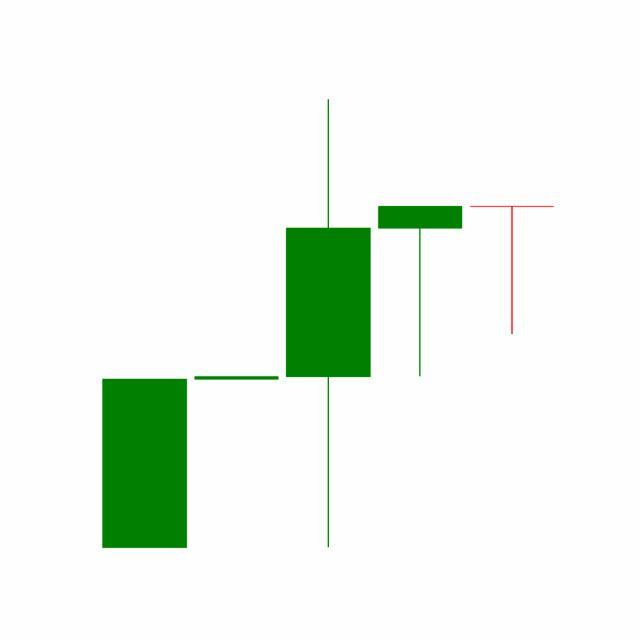Hanging Man: (466, 205, 559, 337)
